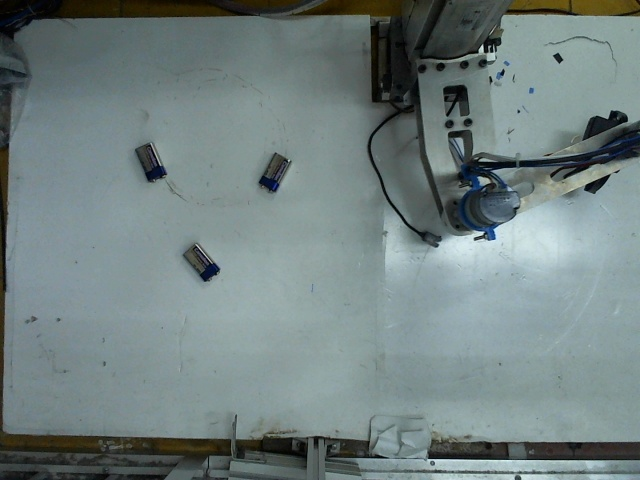battery: (179, 241, 224, 279), (132, 140, 167, 187), (257, 150, 289, 188)
